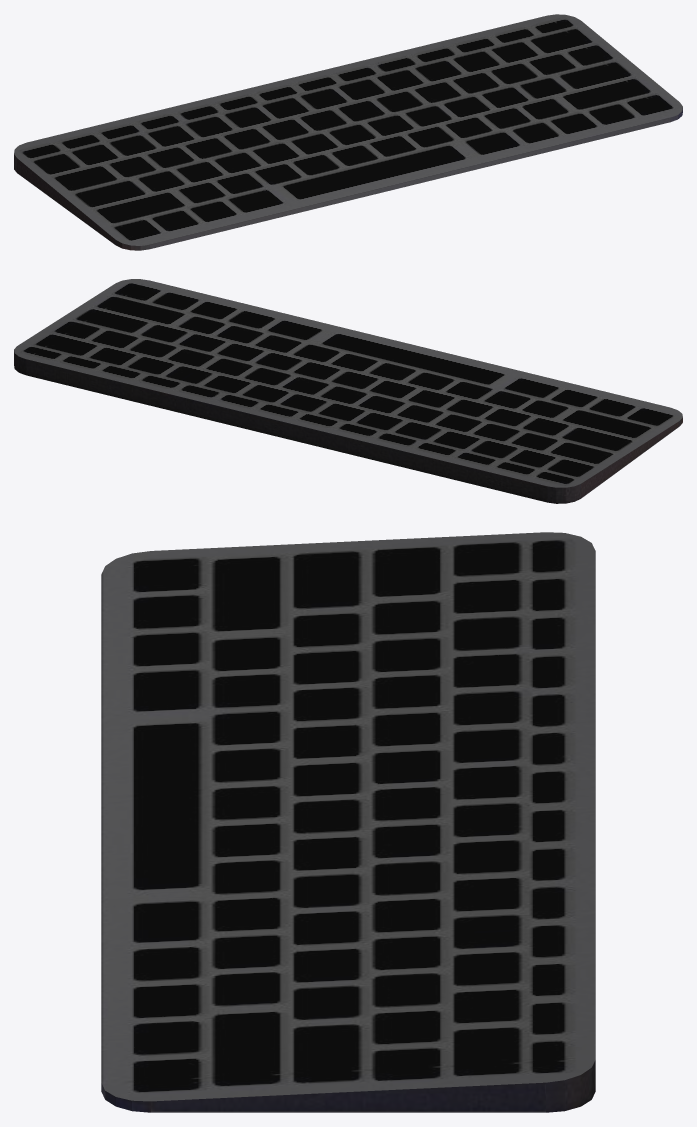
The model's file is keyboard.glb.
3 renders of one model, top to bottom at view 1: azimuth 30°, elevation 25°; view 2: azimuth 150°, elevation 25°; view 3: azimuth 270°, elevation 25°, orthographic. The views are drawn at different scales.
Parts seen in each view (by area): view 1: keyboard; view 2: keyboard; view 3: keyboard.
Boxes of the visible parts, x1,y1,x2,y2 form: keyboard: (14,14,682,250); keyboard: (14,279,682,503); keyboard: (101,532,595,1112).
Size of the model in its own units: 3.22 by 0.0884 by 1.22.
1 material, 1 textured.
